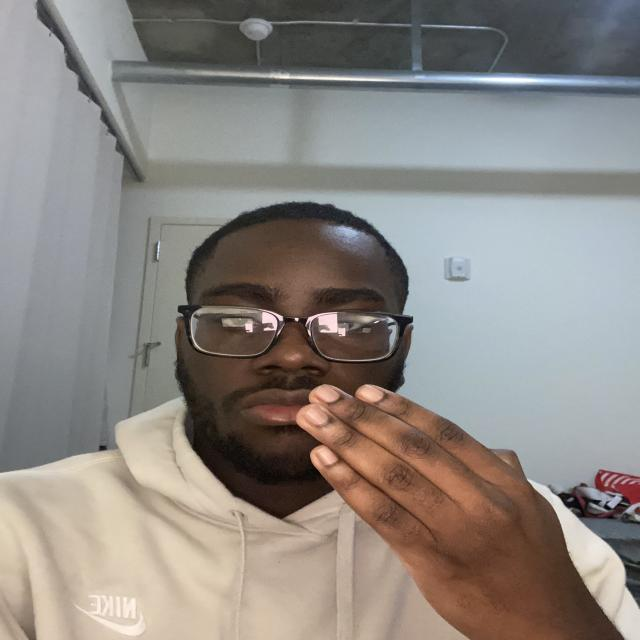Thank you: (257, 368, 601, 617)
